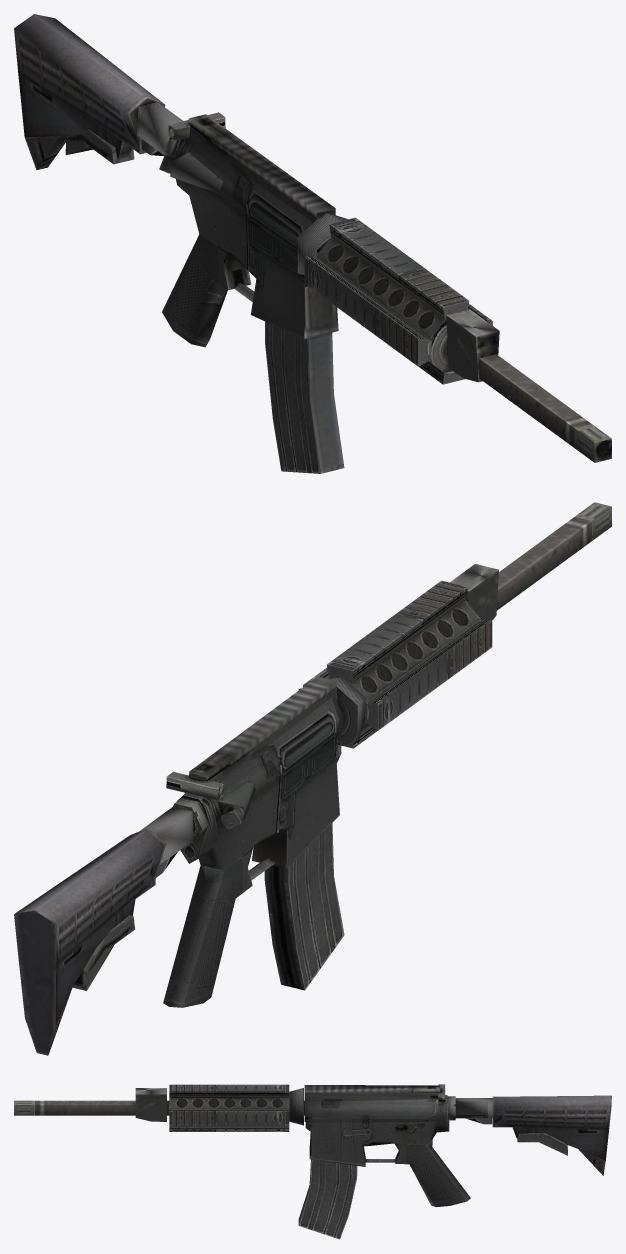
Rendered from Assault_Rifle_bq_01_lod2_Body_LOD_(000693).glb.
The picture shows the model from 3 angles, top to bottom: view 1: azimuth 30°, elevation 25°; view 2: azimuth 150°, elevation 25°; view 3: azimuth 270°, elevation 25°; orthographic projection. The views are drawn at different scales.
Visible parts, largest first — view 1: bq_01_lod2; view 2: bq_01_lod2; view 3: bq_01_lod2.
Boxes of the visible parts, <box> form: bq_01_lod2: <box>14,14,611,473</box>; bq_01_lod2: <box>14,502,611,1055</box>; bq_01_lod2: <box>14,1084,611,1239</box>.
Size of the model in its own units: 0.1286 by 0.4373 by 1.59.
1 material, 1 textured.
